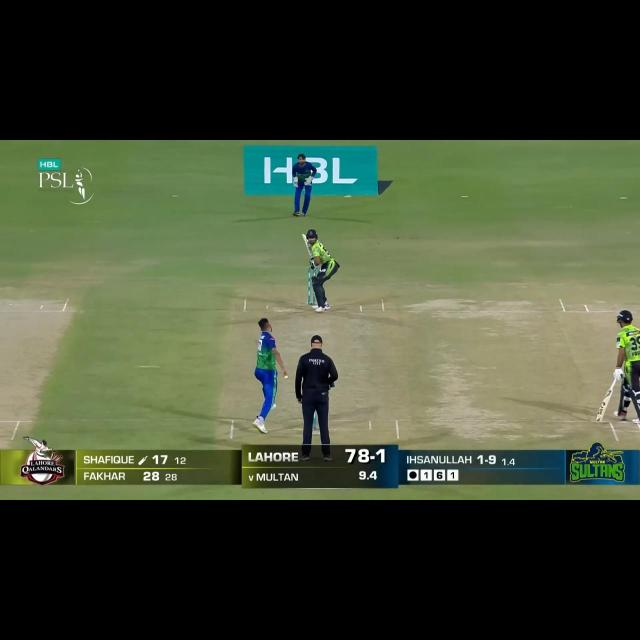bat: (595, 379, 617, 422), (301, 233, 316, 259)
toe: (595, 412, 606, 422), (301, 233, 307, 241)
